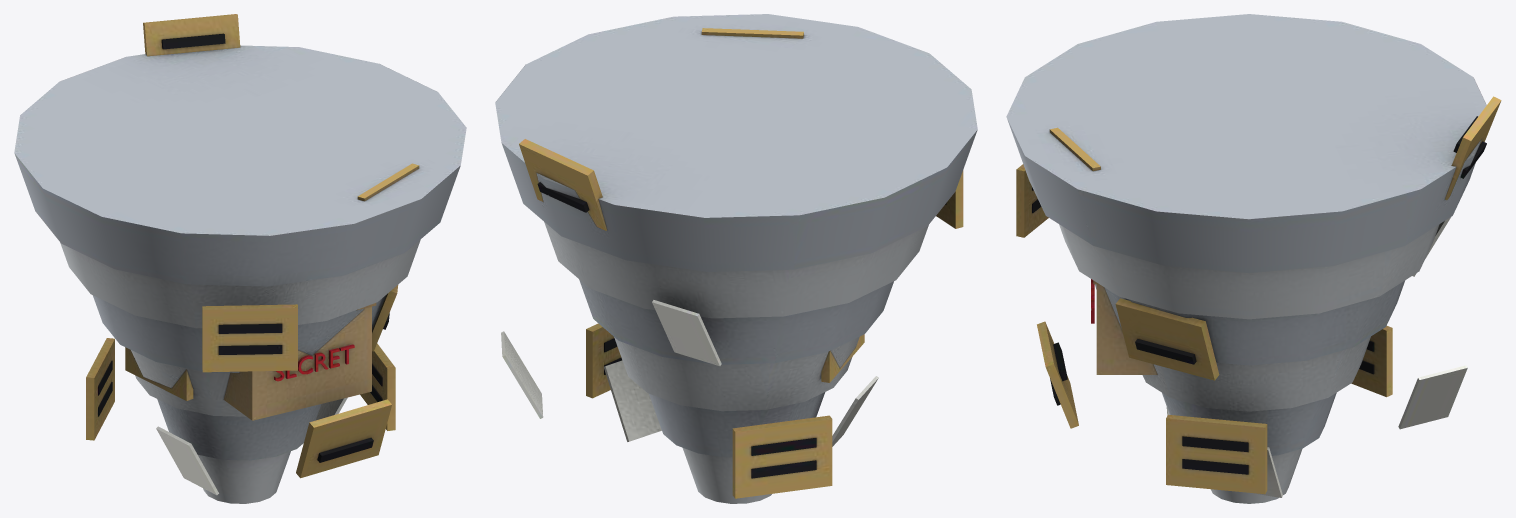
Rendered from jefe_papeles.glb.
The picture shows the model from 3 angles, left to right: view 1: azimuth 30°, elevation 25°; view 2: azimuth 150°, elevation 25°; view 3: azimuth 270°, elevation 25°; orthographic projection. The views are drawn at different scales.
Parts seen in each view (by area): view 1: jefe_papeles; view 2: jefe_papeles; view 3: jefe_papeles.
Boxes of the visible parts, x1,y1,x2,y2 form: jefe_papeles: (14,14,466,503); jefe_papeles: (495,14,977,503); jefe_papeles: (1006,14,1501,503).
Bounding box in the file's own units: 4.3 × 3.91 × 4.38.
1 material, 1 textured.
